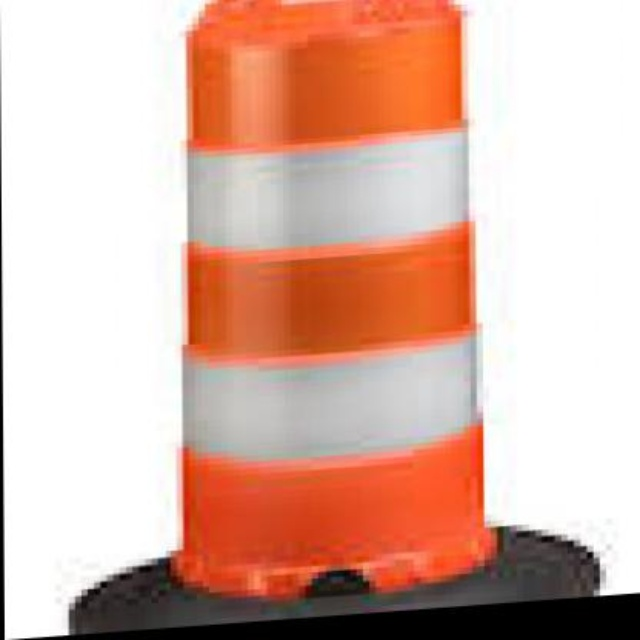obstacle: (166, 0, 528, 599)
